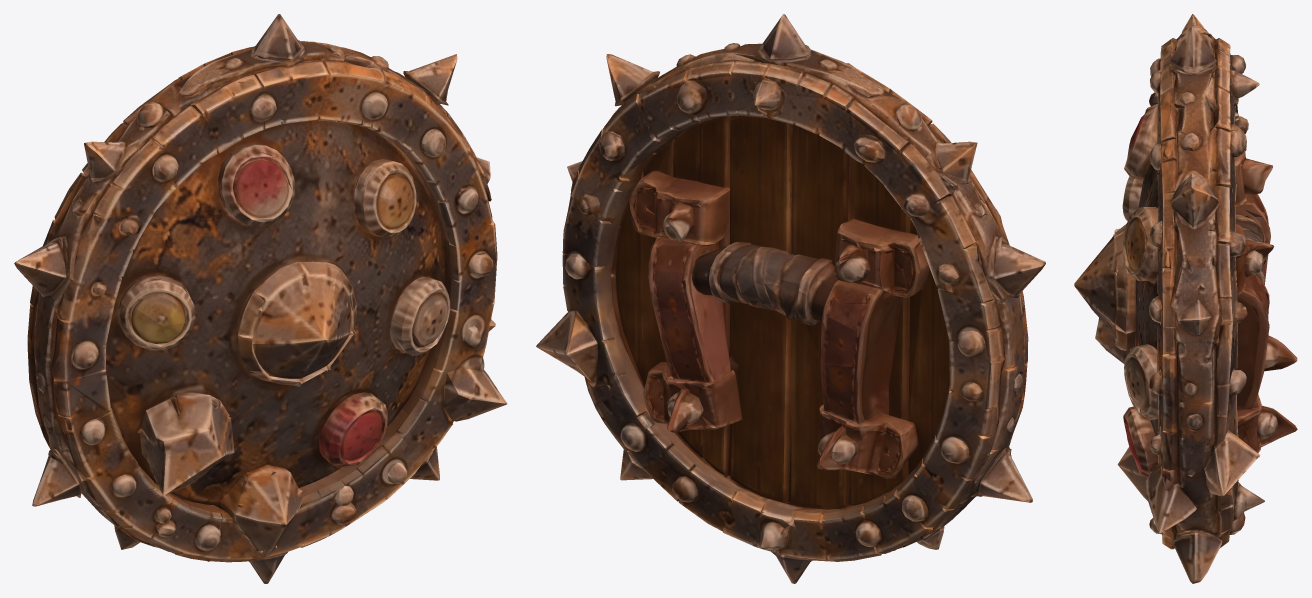
The model's file is shield.glb.
3 renders of one model, left to right at view 1: azimuth 30°, elevation 25°; view 2: azimuth 150°, elevation 25°; view 3: azimuth 270°, elevation 25°, orthographic. The views are drawn at different scales.
Visible parts, largest first — view 1: Mesh_0; view 2: Mesh_0; view 3: Mesh_0.
Part boxes in pixels (x1,y1,x2,y2): Mesh_0: (14,14,507,583); Mesh_0: (536,14,1045,583); Mesh_0: (1074,14,1297,583).
Bounding box in the file's own units: 1.74 × 1.9 × 0.7108.
Materials: 1 (1 with a texture image).
